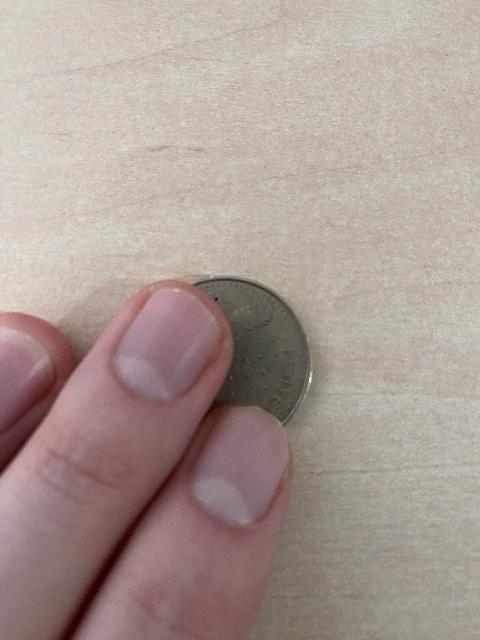10_coin: (193, 277, 311, 424)
